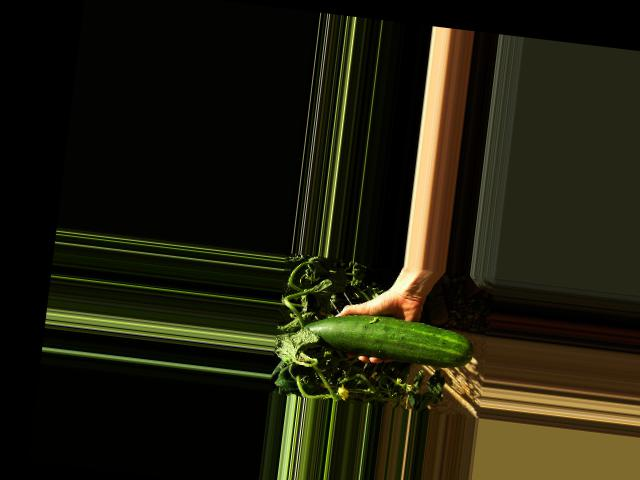cucumber: (298, 307, 477, 371)
